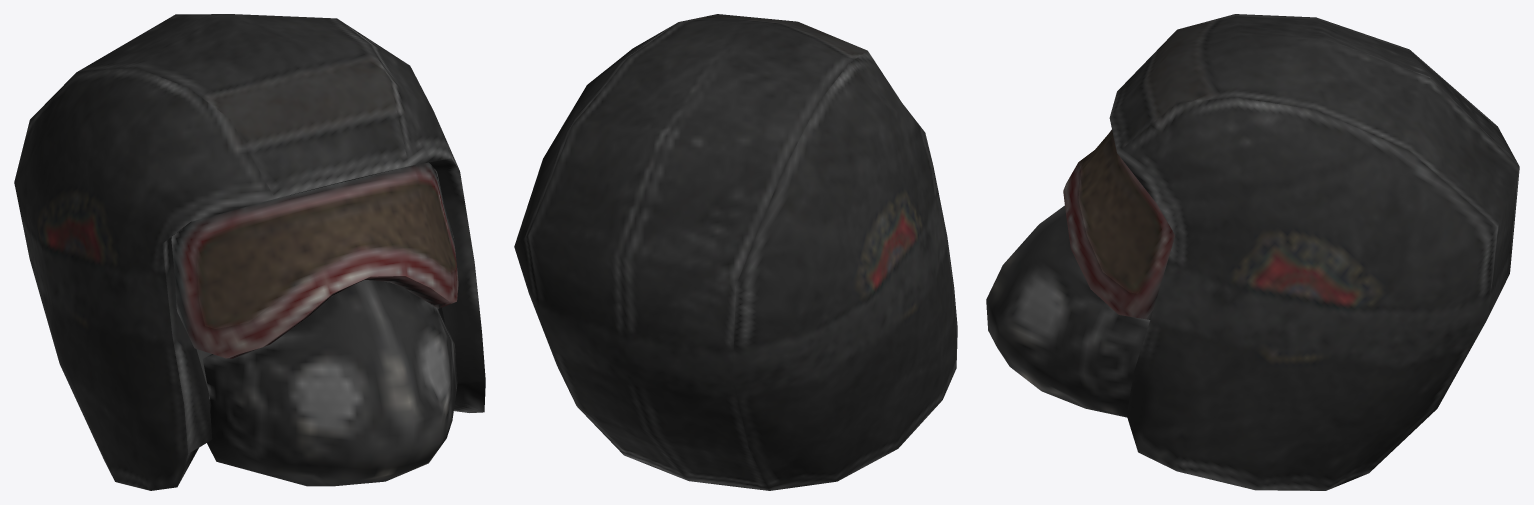
Rendered from Sphere08MaskGround.fbx.
The picture shows the model from 3 angles, left to right: view 1: azimuth 30°, elevation 25°; view 2: azimuth 150°, elevation 25°; view 3: azimuth 270°, elevation 25°; orthographic projection. The views are drawn at different scales.
Parts seen in each view (by area): view 1: Sphere08MaskGround; view 2: Sphere08MaskGround; view 3: Sphere08MaskGround.
Part boxes in pixels (x1=…): Sphere08MaskGround: x1=14, y1=14, x2=485, y2=490; Sphere08MaskGround: x1=514, y1=14, x2=957, y2=490; Sphere08MaskGround: x1=986, y1=14, x2=1519, y2=490.
Bounding box in the file's own units: 0.1407 × 0.1612 × 0.1934.
